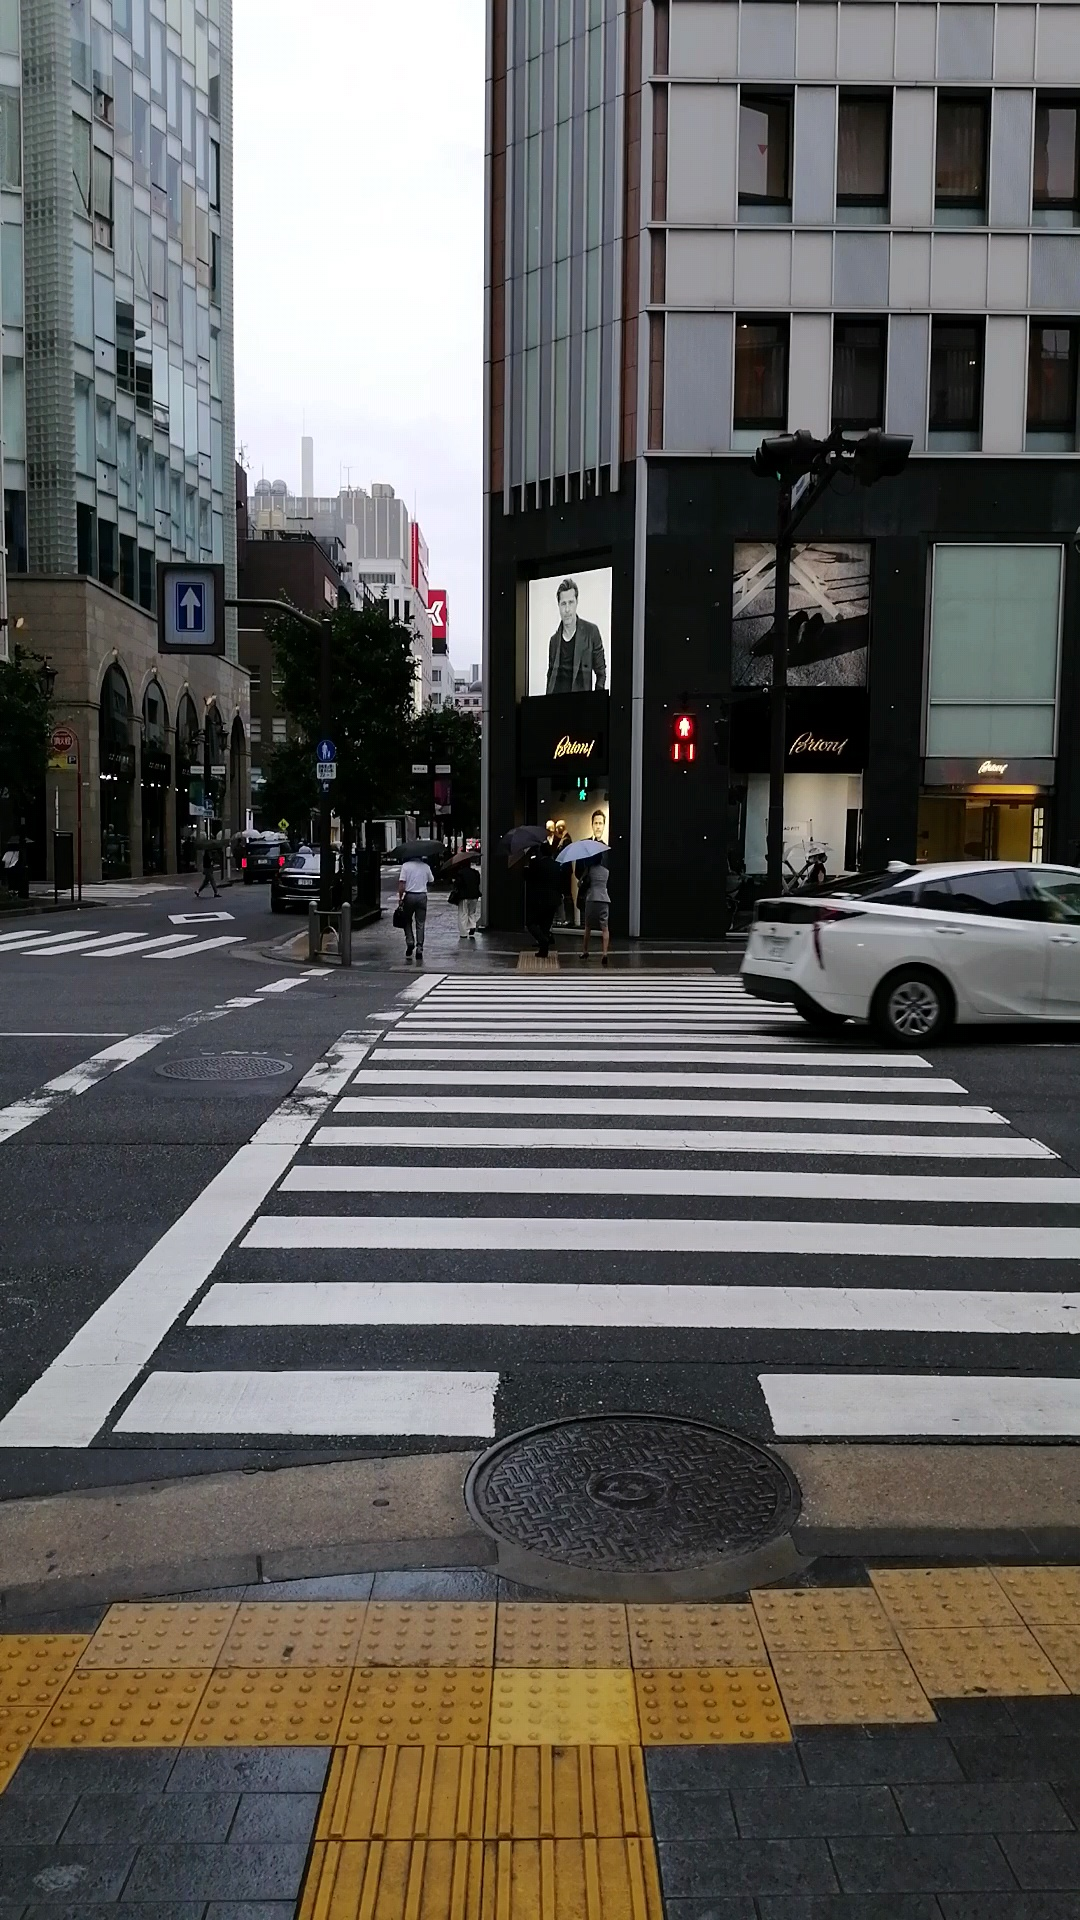red: (669, 712, 699, 767)
